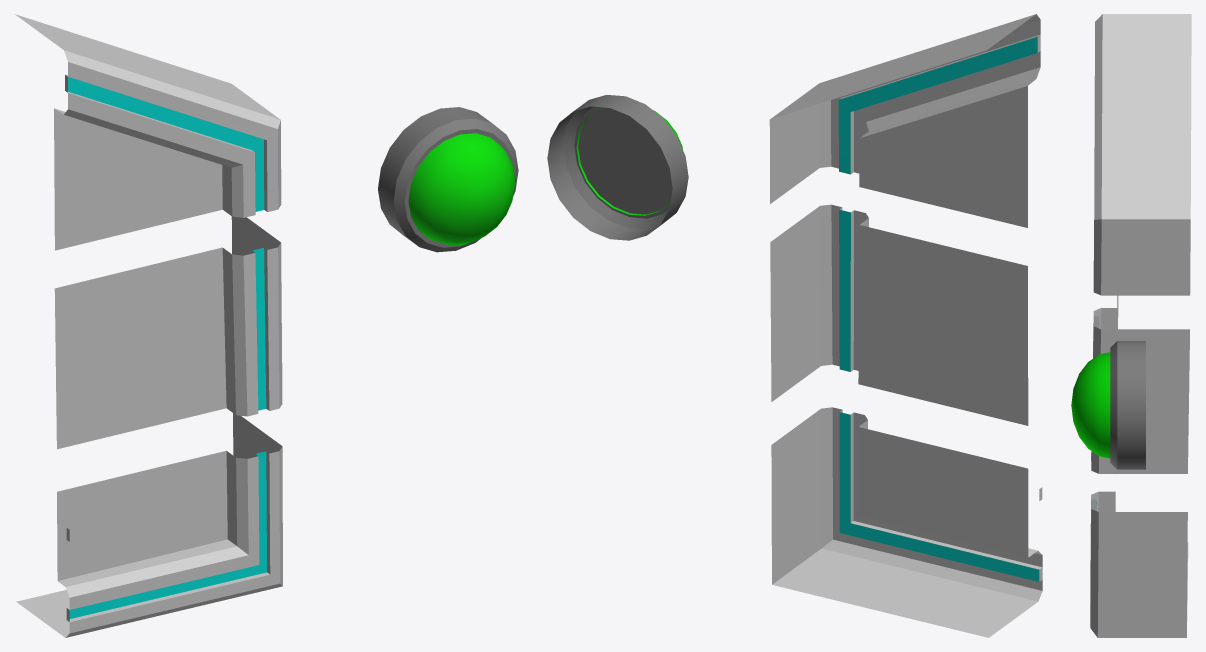
The model's file is door_lamp.fbx.
The picture shows the model from 3 angles, left to right: view 1: azimuth 30°, elevation 25°; view 2: azimuth 150°, elevation 25°; view 3: azimuth 270°, elevation 25°; orthographic projection. The views are drawn at different scales.
Parts seen in each view (by area): view 1: pPipe6, pPipe5, pPipe7, pSphere16, pCylinder47; view 2: pPipe7, pPipe6, pPipe5, pCylinder47; view 3: pPipe5, pPipe7, pPipe6, pCylinder47, pSphere16.
Boxes of the visible parts, bbox=[...] form: pPipe6: bbox=[54, 216, 282, 449]; pPipe5: bbox=[15, 14, 281, 541]; pPipe7: bbox=[16, 413, 282, 637]; pSphere16: bbox=[408, 133, 515, 245]; pCylinder47: bbox=[378, 107, 518, 252]; pPipe7: bbox=[771, 407, 1042, 637]; pPipe6: bbox=[770, 204, 1028, 425]; pPipe5: bbox=[769, 14, 1042, 501]; pCylinder47: bbox=[547, 95, 688, 240]; pPipe5: bbox=[1093, 14, 1191, 295]; pPipe7: bbox=[1090, 491, 1188, 637]; pPipe6: bbox=[1091, 295, 1189, 473]; pCylinder47: bbox=[1110, 341, 1145, 469]; pSphere16: bbox=[1071, 352, 1110, 458].
Size of the model in its own units: 1.26 by 1.53 by 0.3152.
